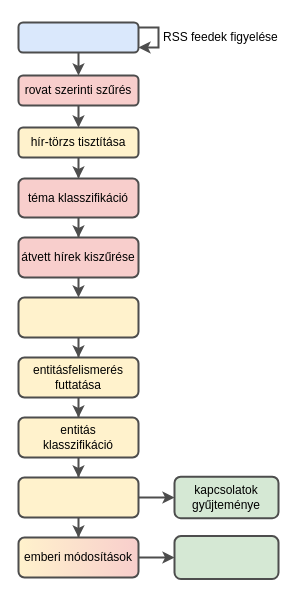
Some shapes in this 308 by 597 pixel diagram are drawn without their labels. The centre of each missing label's shape, as x and y in pixels:
"entitások közti kapcsolat kinyerése" belongs at pixel 78 497.
"feldolgozott hírek" belongs at pixel 226 557.
"kulcsszavak kinyerése" belongs at pixel 78 317.
"új hír letöltése" belongs at pixel 78 37.
